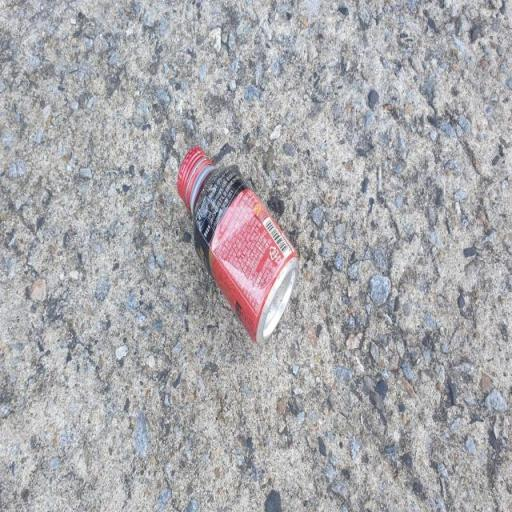metal: (165, 125, 320, 365)
